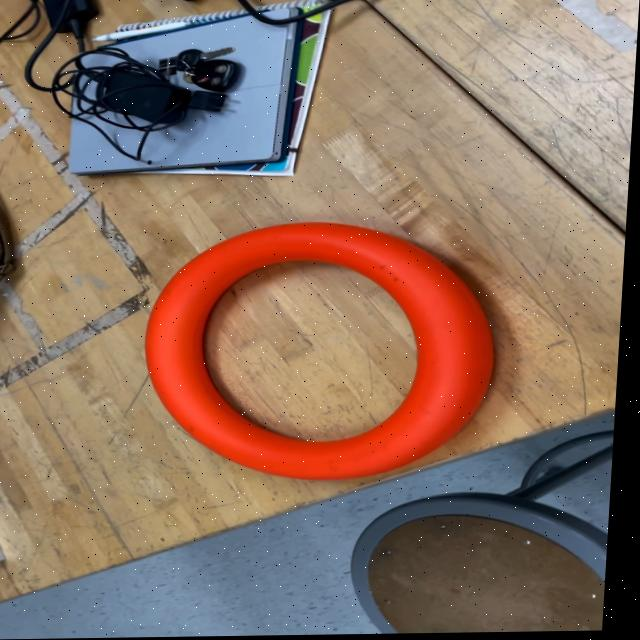note: (142, 219, 506, 484)
